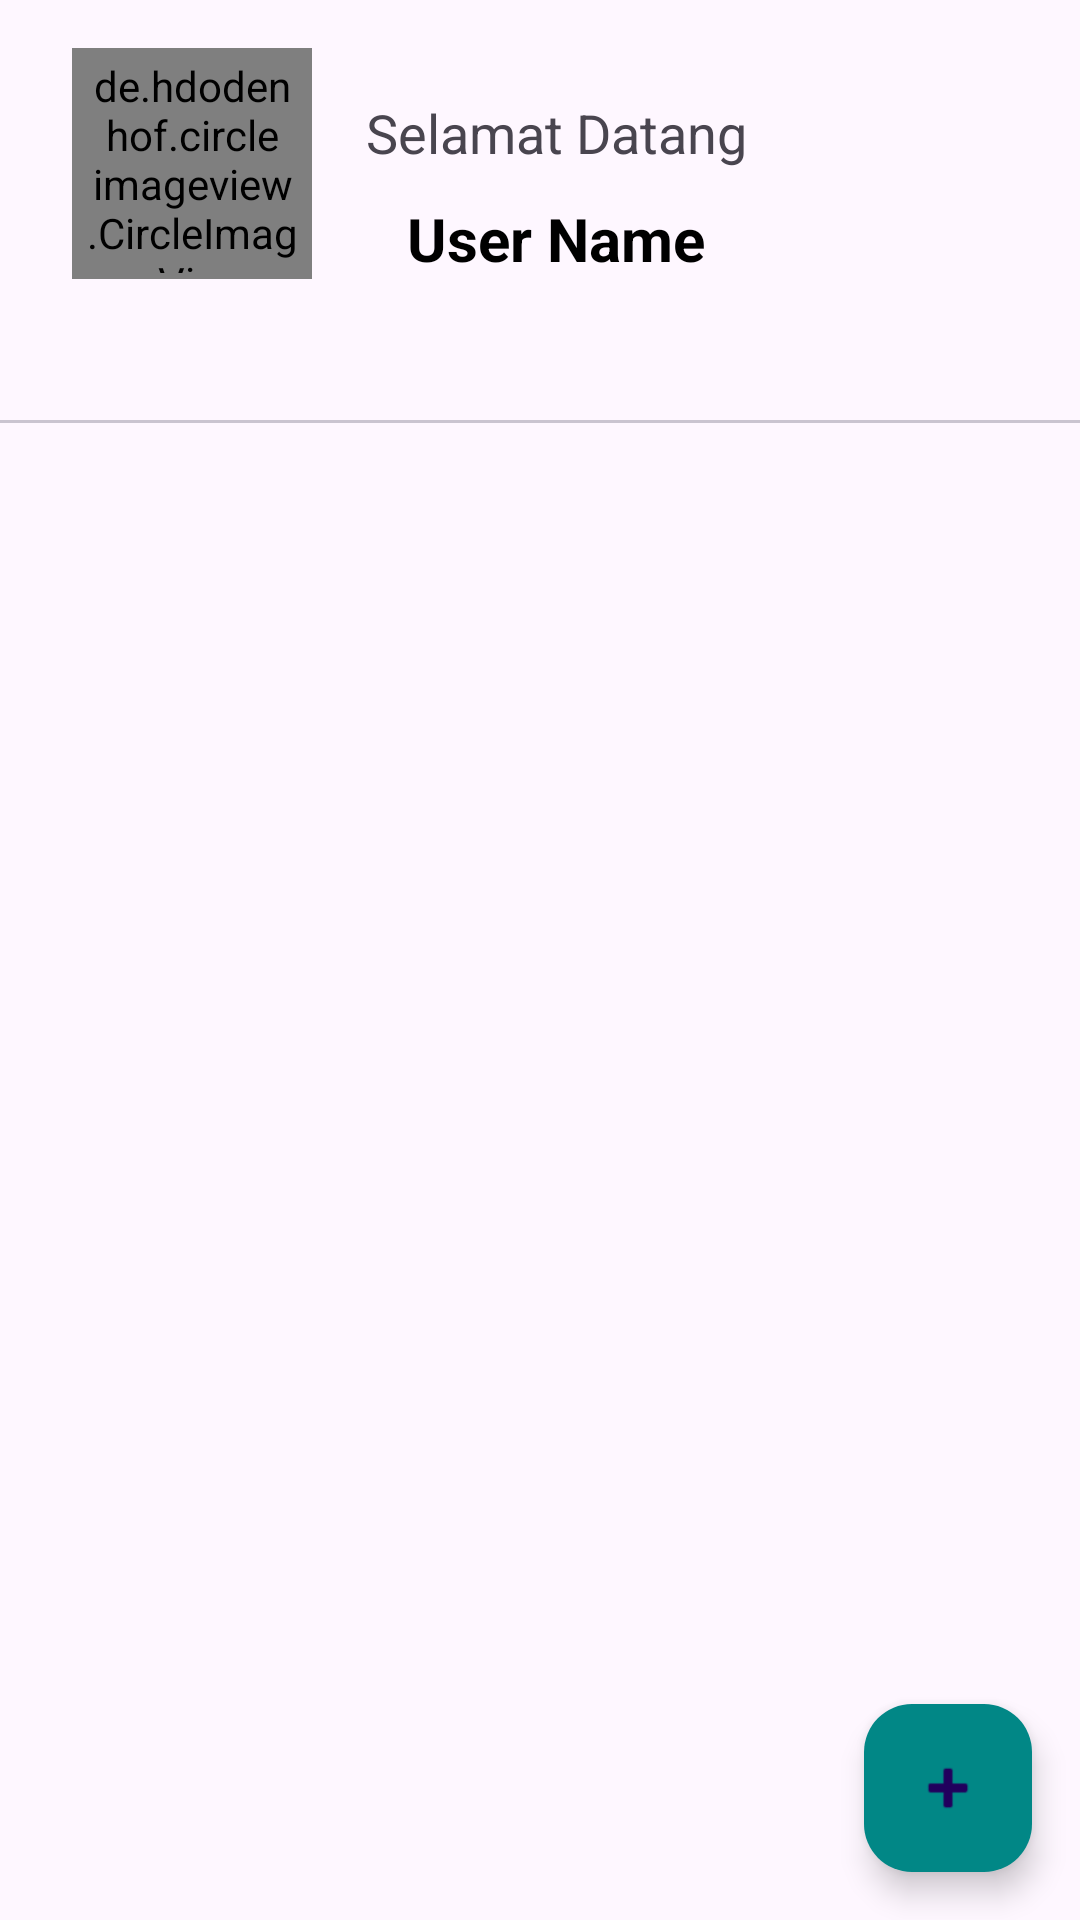

Screen size 1080px x 1920px. Icon name, then its box in pixels as region(x1, y1, x2, y2):
Tambah Transaksi: region(864, 1704, 1032, 1872)
